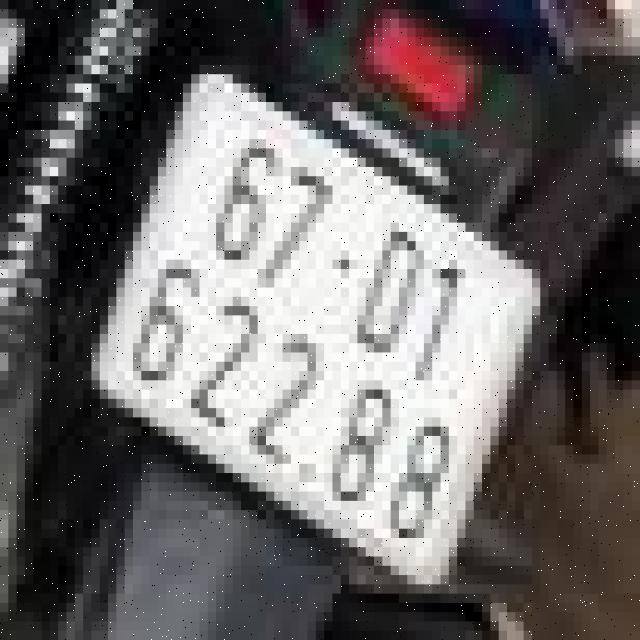1: (404, 255, 477, 402)
2: (240, 321, 337, 479), (181, 288, 280, 442)
6: (114, 245, 217, 401), (198, 129, 294, 276)
7: (244, 157, 345, 301)
8: (375, 402, 466, 555), (320, 369, 404, 518)
D: (341, 216, 439, 371)
